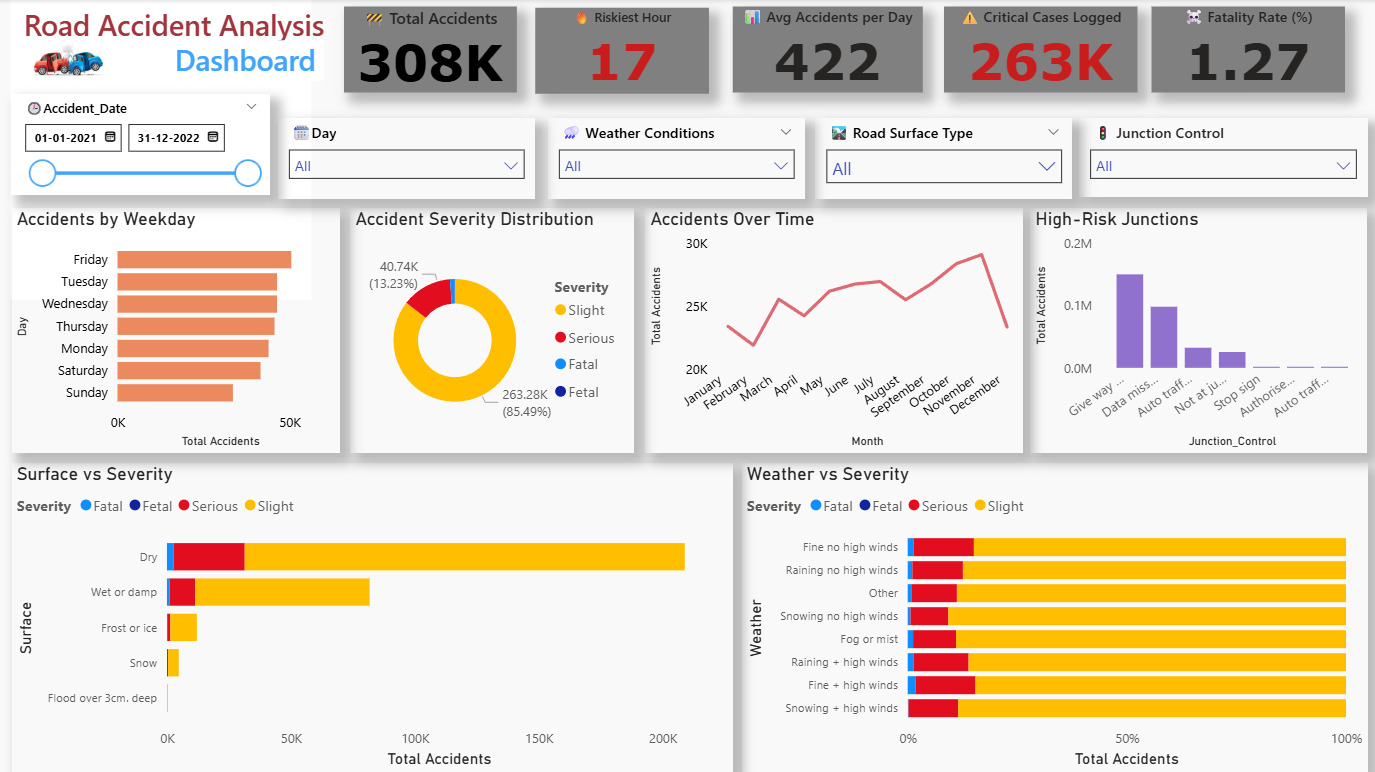

This screenshot's page, from the dashboard's own definition file:
{"tool":"powerbi","page":{"name":"Page 1","canvas":[1280,720],"ordinal":0},"visuals":[{"type":"textbox","box":[10,0,280,280],"z":0},{"type":"textbox","title":"Road Accident Analysis ","box":[4.7,5.8,316.3,43],"z":1000},{"type":"image","box":[20.9,26.7,87.2,60.5],"z":2000},{"type":"textbox","title":"Dashboard","box":[155.8,38.4,146.5,37.2],"z":3000},{"type":"card","title":"🚧 Total Accidents","fields":{"Values":["Data.Total Accidents"]},"box":[320.9,7,160.5,80.2],"z":4000},{"type":"card","title":"🔥 Riskiest Hour","fields":{"Values":["Data.Peak Hour"]},"box":[498.8,8.1,161.6,80.2],"z":5000},{"type":"card","title":"📊 Avg Accidents per Day","fields":{"Values":["Data.Daily Avg"]},"box":[682.6,7,176.7,80.2],"z":6000},{"type":"card","title":"⚠️ Critical Cases Logged","fields":{"Values":["Data.Slight Accidents"]},"box":[879.1,7,180.2,80.2],"z":7000},{"type":"card","title":"☠️ Fatality Rate (%)","fields":{"Values":["Data.Fatality Rate"]},"box":[1072.1,7,180.2,80.2],"z":8000},{"type":"donutChart","title":"Accident Severity Distribution","fields":{"Category":["Data.Severity"],"Y":["CountNonNull(Data.Severity)"]},"box":[326.7,194.2,264,227.9],"z":9000},{"type":"lineChart","title":"Accidents Over Time","fields":{"Category":["Data.Accident_Date.Variation.Date Hierarchy.Month"],"Y":["Data.Total Accidents"]},"box":[601.2,194.2,351.2,227.9],"z":10000},{"type":"clusteredBarChart","title":"Accidents by Weekday","fields":{"Category":["Data.Day"],"Y":["Data.Total Accidents"]},"box":[11.6,194.2,305.8,227.9],"z":11000},{"type":"clusteredColumnChart","title":"High-Risk Junctions","fields":{"Category":["Data.Junction_Control"],"Y":["Data.Total Accidents"]},"box":[959.3,194.2,314,227.9],"z":12000},{"type":"hundredPercentStackedBarChart","title":"Weather vs Severity","fields":{"Category":["Data.Weather"],"Y":["Data.Total Accidents"],"Series":["Data.Severity"]},"box":[690.7,431.4,582.6,288.4],"z":13000},{"type":"barChart","title":"Surface vs Severity","fields":{"Category":["Data.Surface"],"Y":["Data.Total Accidents"],"Series":["Data.Severity"]},"box":[11.6,431.4,670.9,288.4],"z":14000},{"type":"slicer","fields":{"Values":["Data.Accident_Date"]},"box":[11.6,88.4,240.7,94.2],"z":15000},{"type":"slicer","fields":{"Values":["Data.Day"]},"box":[259.3,110.5,239.5,75.6],"z":16000},{"type":"slicer","fields":{"Values":["Data.Weather"]},"box":[510.5,110.5,239.5,75.6],"z":17000},{"type":"slicer","fields":{"Values":["Data.Surface"]},"box":[759.3,110.5,239.5,75.6],"z":18000},{"type":"slicer","fields":{"Values":["Data.Junction_Control"]},"box":[1004.7,110.5,268.6,73.3],"z":19000}]}

Visuals, with their boxes in screenshot pixels (x1, y1, x2, y2), scaled from the page's 1280x720 canvas onto the 1375x772 screenshot:
textbox: x1=11, y1=0, x2=312, y2=300
"Road Accident Analysis " textbox: x1=5, y1=6, x2=345, y2=52
image: x1=22, y1=29, x2=116, y2=93
"Dashboard" textbox: x1=167, y1=41, x2=325, y2=81
"🚧 Total Accidents" card: x1=345, y1=8, x2=517, y2=93
"🔥 Riskiest Hour" card: x1=536, y1=9, x2=709, y2=95
"📊 Avg Accidents per Day" card: x1=733, y1=8, x2=923, y2=93
"⚠️ Critical Cases Logged" card: x1=944, y1=8, x2=1138, y2=93
"☠️ Fatality Rate (%)" card: x1=1152, y1=8, x2=1345, y2=93
"Accident Severity Distribution" donutChart: x1=351, y1=208, x2=635, y2=453
"Accidents Over Time" lineChart: x1=646, y1=208, x2=1023, y2=453
"Accidents by Weekday" clusteredBarChart: x1=12, y1=208, x2=341, y2=453
"High-Risk Junctions" clusteredColumnChart: x1=1030, y1=208, x2=1368, y2=453
"Weather vs Severity" hundredPercentStackedBarChart: x1=742, y1=463, x2=1368, y2=771
"Surface vs Severity" barChart: x1=12, y1=463, x2=733, y2=771
slicer - Data.Accident_Date: x1=12, y1=95, x2=271, y2=196
slicer - Data.Day: x1=279, y1=118, x2=536, y2=200
slicer - Data.Weather: x1=548, y1=118, x2=806, y2=200
slicer - Data.Surface: x1=816, y1=118, x2=1073, y2=200
slicer - Data.Junction_Control: x1=1079, y1=118, x2=1368, y2=197
